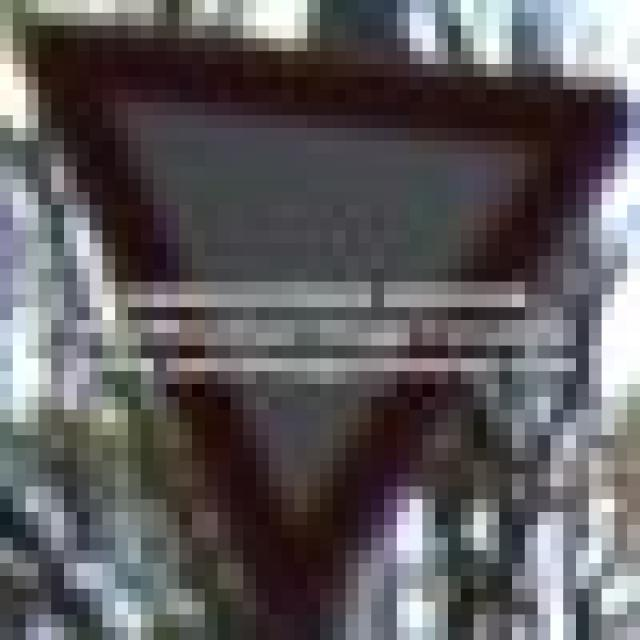gap_in_median: (13, 13, 614, 627)
